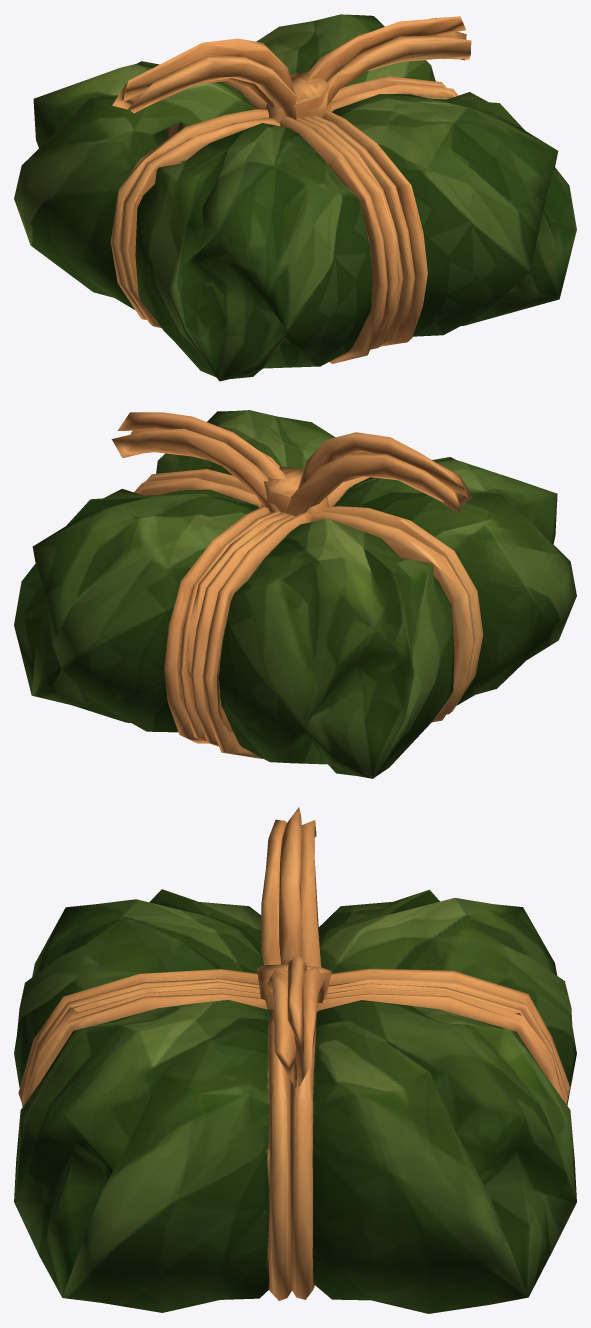
File: Meshy_AI_Emerald_Gift_0919193215_texture.glb
3 views of the same model, one above another, from view 1: azimuth 30°, elevation 25°; view 2: azimuth 150°, elevation 25°; view 3: azimuth 270°, elevation 25° (orthographic). The views are drawn at different scales.
Size of the model in its own units: 1 by 0.7305 by 1.
1 material, 1 textured.
